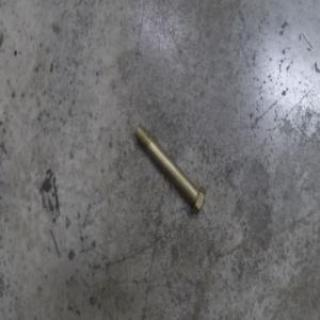Bolttrack_idkeyframe: (134, 121, 206, 215)
